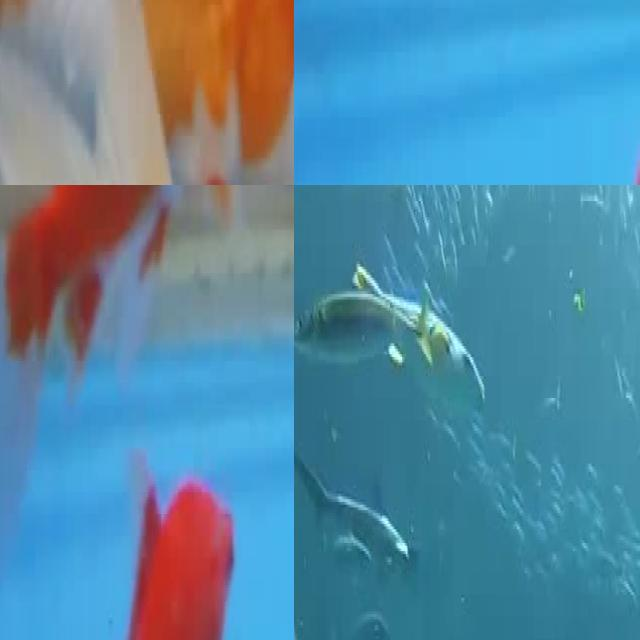fish: (0, 0, 294, 185), (576, 79, 640, 185)
